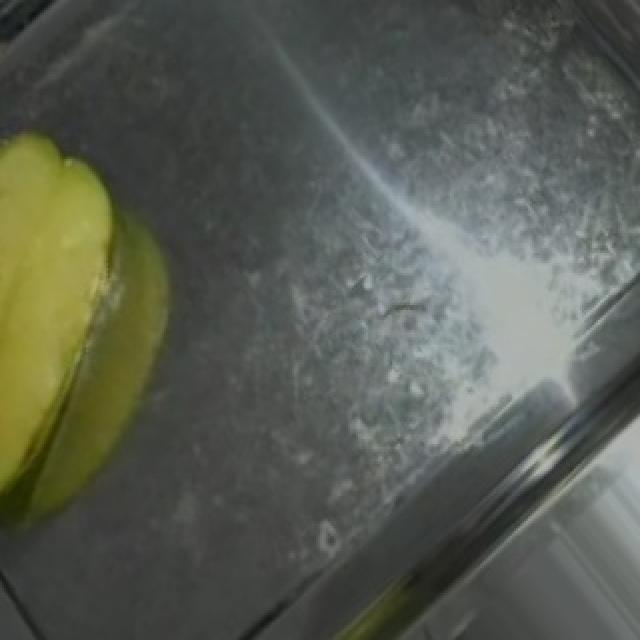fruit: (0, 104, 254, 496), (528, 446, 640, 640)
